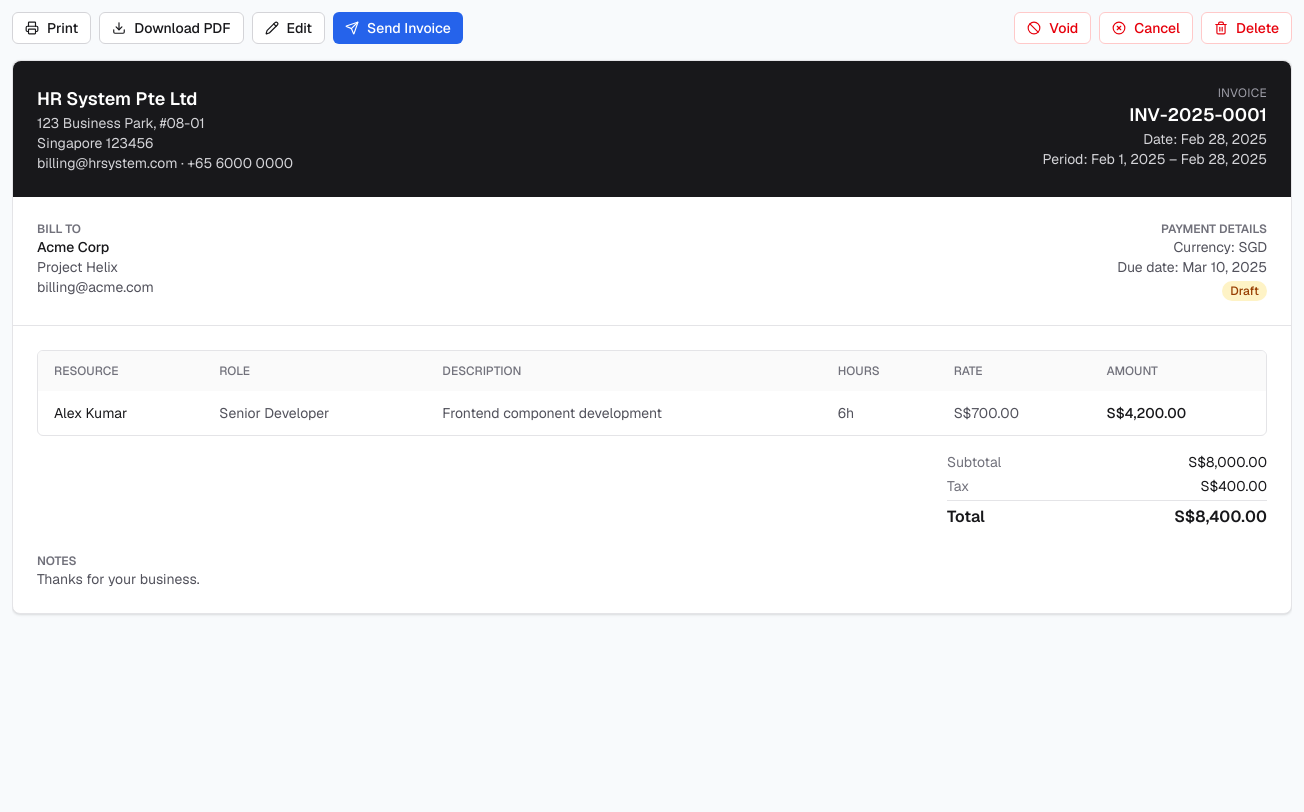
Test case: InvoiceDetailPanel › switches to the edit form and back via Cancel
This screenshot has width=1304, height=812.
Expected: the text "INV-2025-0001" is shown, 1129,103 -> 1267,126
What coordinates should you click on to do the following:
click the button "Edit"
I would click on:
 (288, 28)
Its box is 252,12 -> 325,44.
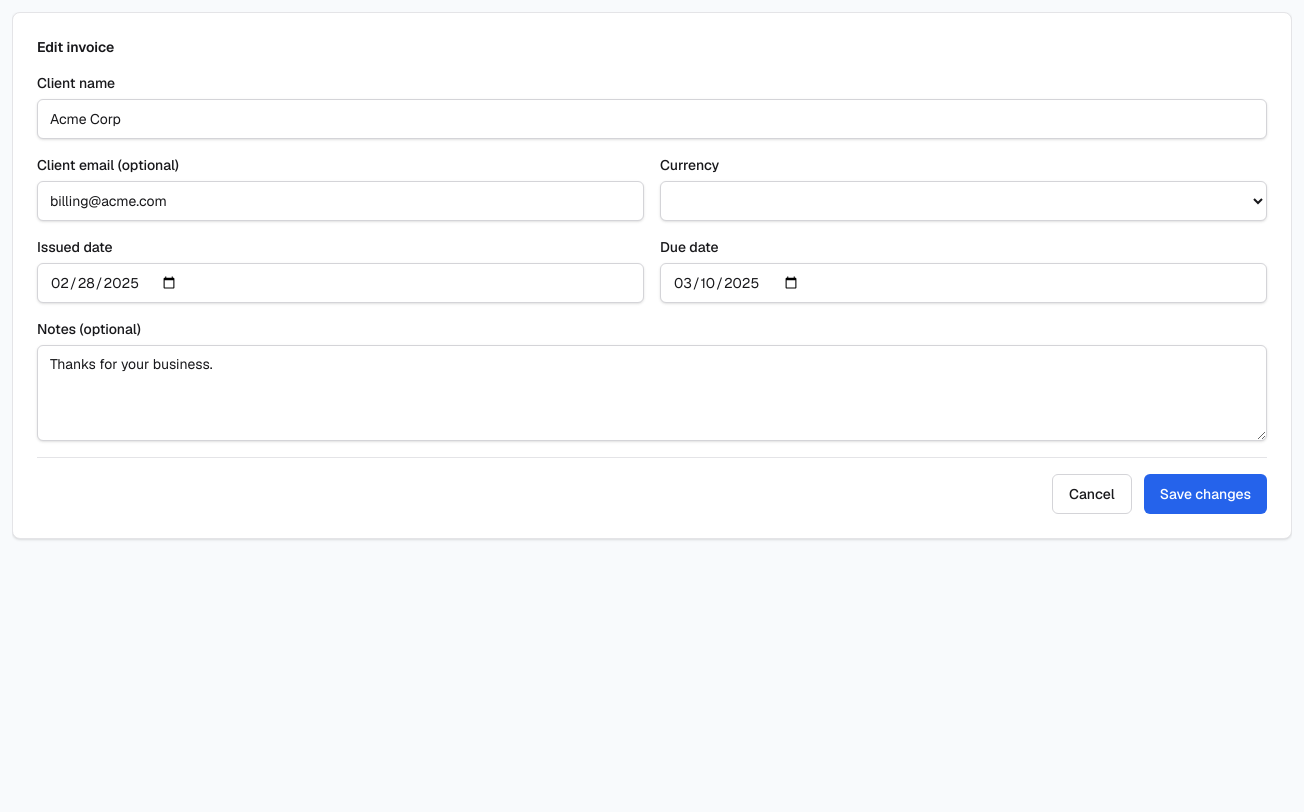
Now the heading "Edit invoice" is shown, box 37,38 -> 114,56
What coordinates should you click on to do the following:
click the button "Cancel"
I would click on:
 (1092, 494)
Its box is 1052,474 -> 1132,514.
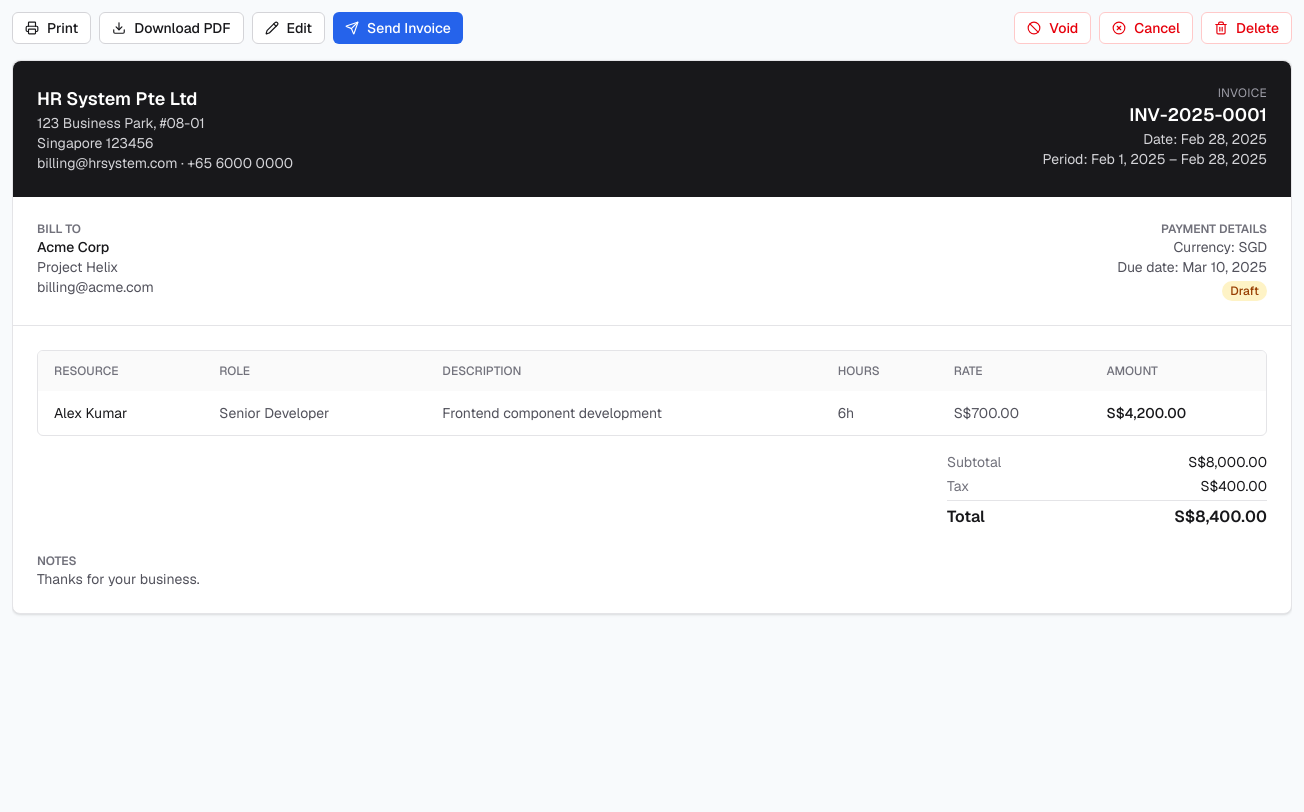
Now the text "INV-2025-0001" is shown, box 1129,103 -> 1267,126
